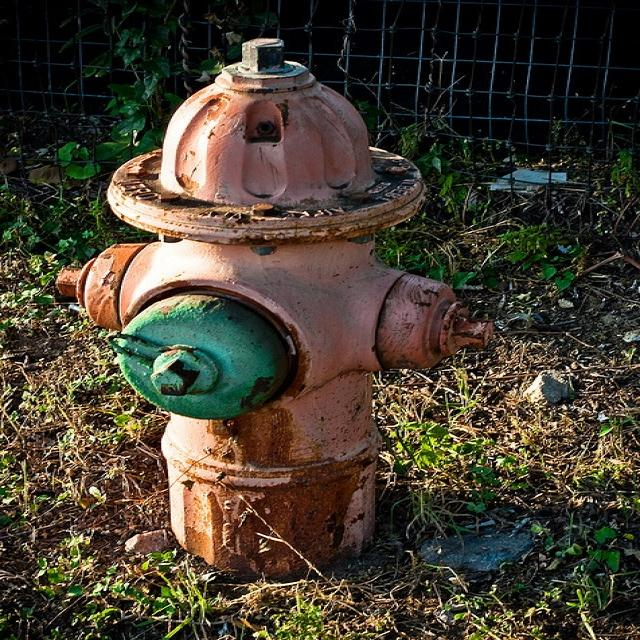fire_hydrant: (49, 37, 498, 578)
